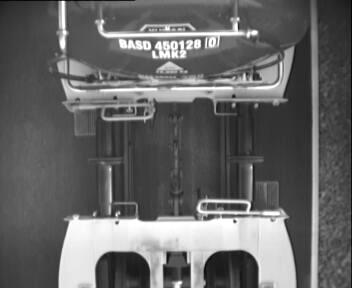Copy of Copy of wagon_scan: (88, 239, 263, 288)
